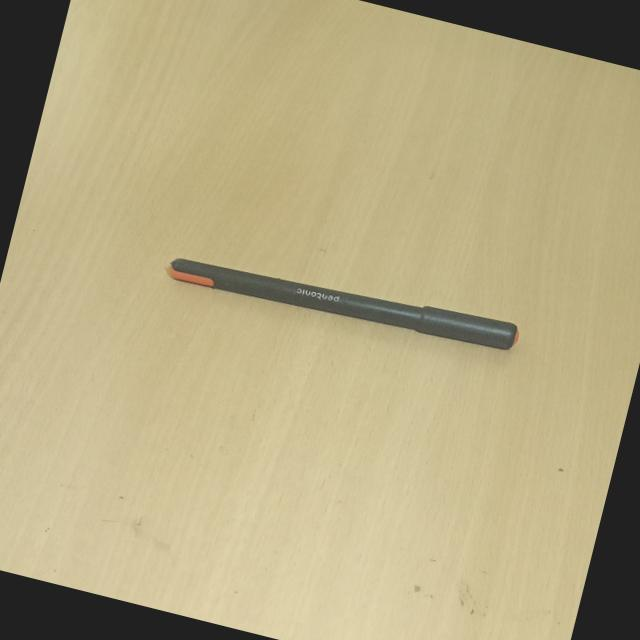pen: (156, 231, 542, 376)
